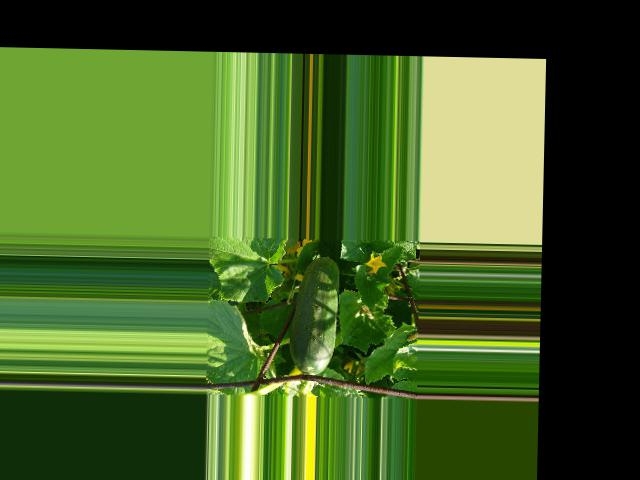cucumber: (287, 255, 339, 375)
